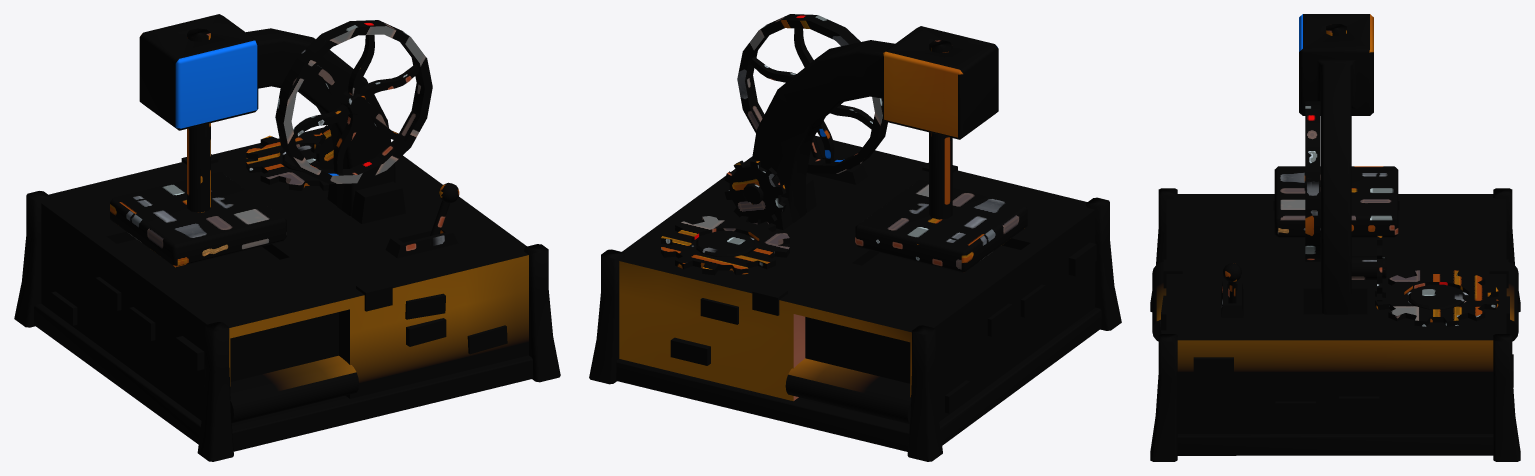
The model's file is Balista_Tartak_Kamieniolom.fbx.
The picture shows the model from 3 angles, left to right: view 1: azimuth 30°, elevation 25°; view 2: azimuth 150°, elevation 25°; view 3: azimuth 270°, elevation 25°; orthographic projection. The views are drawn at different scales.
Parts seen in each view (by area): view 1: Cylinder.028_Baked, Cylinder.025_Baked, Cylinder.026_Baked, Cylinder.010_Baked, Cylinder.030_Baked, Plane.001_Baked, Cylinder.029_Baked, Cylinder.031_Baked; view 2: Cylinder.028_Baked, Cylinder.025_Baked, Cylinder.026_Baked, Cylinder.030_Baked, Cylinder.010_Baked, Cylinder.029_Baked; view 3: Cylinder.028_Baked, Cylinder.025_Baked, Cylinder.030_Baked, Cylinder.026_Baked, Cylinder.010_Baked, Cylinder.029_Baked, Cylinder.031_Baked.
Part boxes in pixels (x1=…): Cylinder.028_Baked: x1=14, y1=14, x2=560, y2=461; Cylinder.025_Baked: x1=110, y1=28, x2=286, y2=267; Cylinder.026_Baked: x1=275, y1=20, x2=432, y2=184; Cylinder.010_Baked: x1=230, y1=355, x2=358, y2=423; Cylinder.030_Baked: x1=246, y1=132, x2=329, y2=190; Plane.001_Baked: x1=390, y1=229, x2=457, y2=258; Cylinder.029_Baked: x1=311, y1=125, x2=334, y2=169; Cylinder.031_Baked: x1=430, y1=182, x2=459, y2=235; Cylinder.028_Baked: x1=589, y1=26, x2=1121, y2=461; Cylinder.025_Baked: x1=855, y1=40, x2=1027, y2=272; Cylinder.026_Baked: x1=737, y1=14, x2=887, y2=173; Cylinder.030_Baked: x1=661, y1=215, x2=789, y2=275; Cylinder.010_Baked: x1=785, y1=358, x2=910, y2=423; Cylinder.029_Baked: x1=724, y1=159, x2=786, y2=224; Cylinder.028_Baked: x1=1150, y1=14, x2=1520, y2=461; Cylinder.025_Baked: x1=1274, y1=24, x2=1398, y2=237; Cylinder.030_Baked: x1=1375, y1=269, x2=1498, y2=326; Cylinder.026_Baked: x1=1304, y1=101, x2=1320, y2=261; Cylinder.010_Baked: x1=1152, y1=262, x2=1518, y2=341; Cylinder.029_Baked: x1=1351, y1=235, x2=1386, y2=301; Cylinder.031_Baked: x1=1223, y1=263, x2=1241, y2=303.
Bounding box in the file's own units: 200 × 182 × 195.
